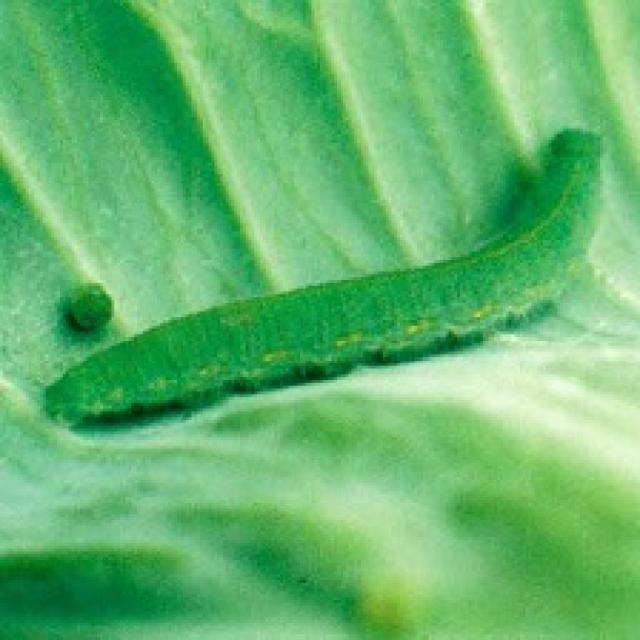Cabbage-worm: (50, 123, 607, 461)
